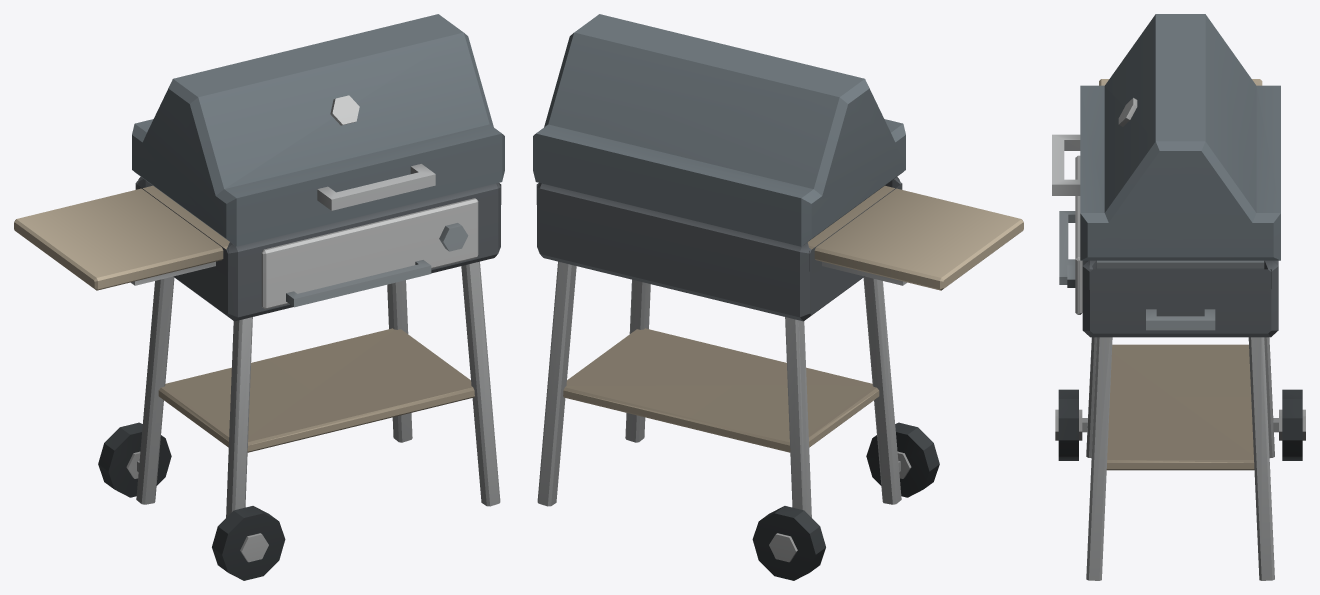
File: grill.glb
The picture shows the model from 3 angles, left to right: view 1: azimuth 30°, elevation 25°; view 2: azimuth 150°, elevation 25°; view 3: azimuth 270°, elevation 25°; orthographic projection.
Visible parts, largest first — view 1: grill; view 2: grill; view 3: grill.
Boxes of the visible parts, x1=… form: grill: x1=14, y1=14, x2=504, y2=580; grill: x1=533, y1=14, x2=1023, y2=580; grill: x1=1052, y1=14, x2=1305, y2=580.
Bounding box in the file's own units: 1.18 × 1.19 × 0.622.
